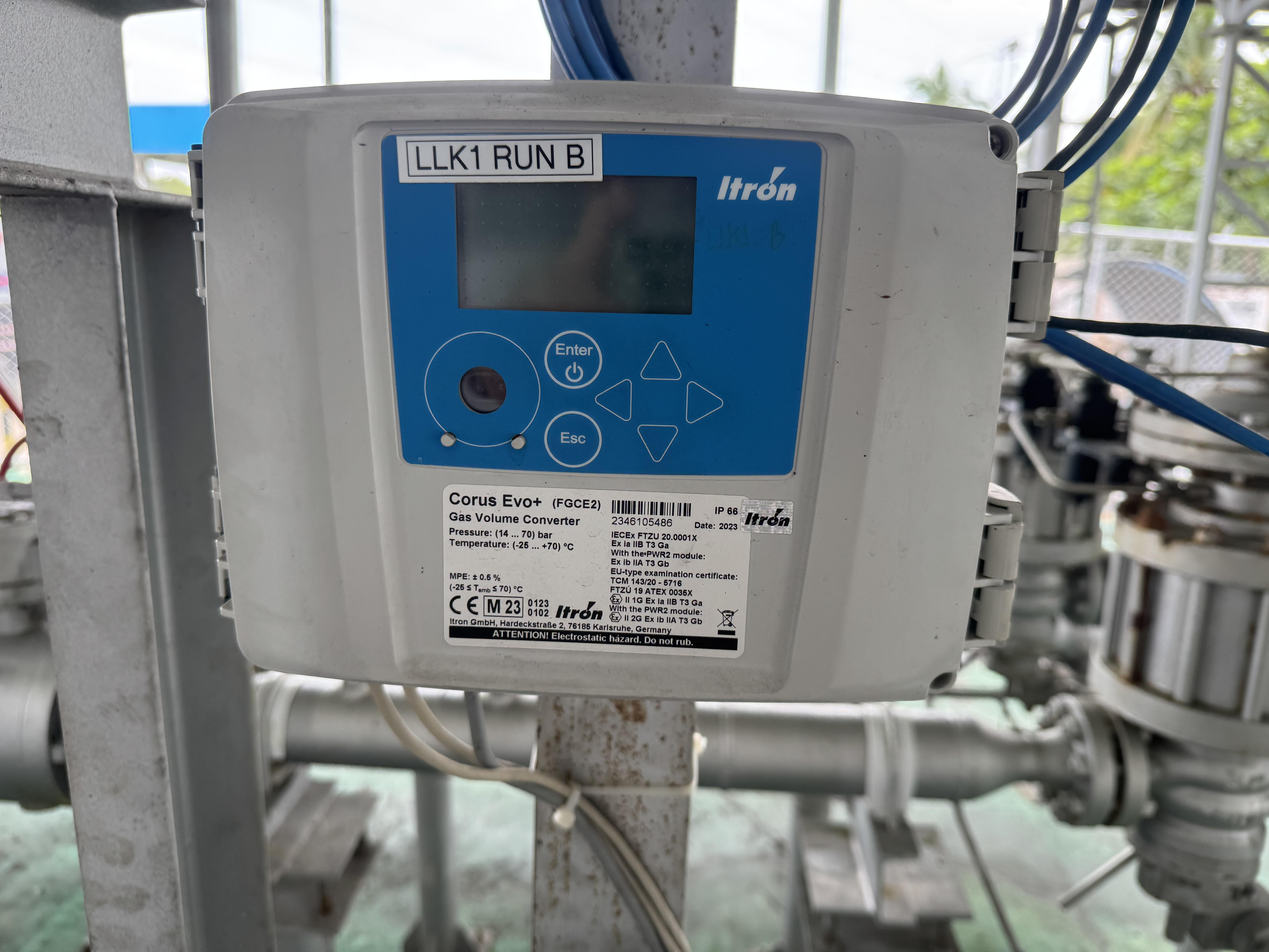digital_screen: (451, 171, 697, 315)
